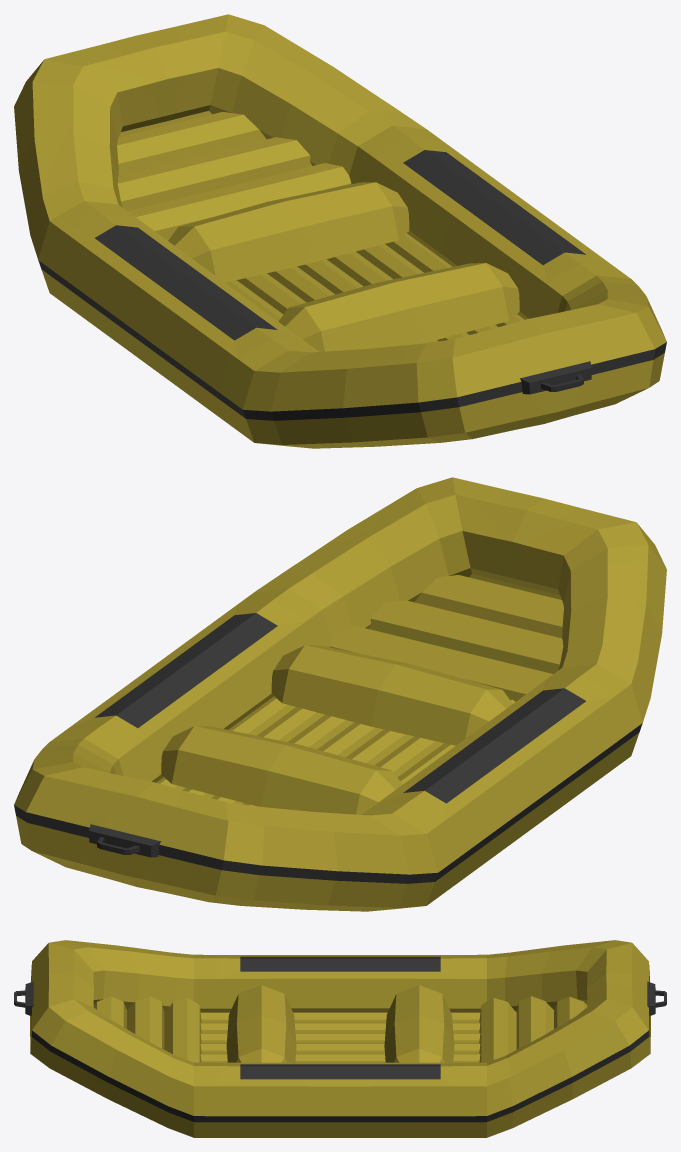
The model's file is raft.glb.
The picture shows the model from 3 angles, top to bottom: view 1: azimuth 30°, elevation 25°; view 2: azimuth 150°, elevation 25°; view 3: azimuth 270°, elevation 25°; orthographic projection. The views are drawn at different scales.
Parts seen in each view (by area): view 1: Raft; view 2: Raft; view 3: Raft.
Part boxes in pixels (x1,y1,x2,y2): Raft: [14, 14, 666, 448]; Raft: [14, 477, 666, 911]; Raft: [14, 940, 666, 1137].
Size of the model in its own units: 11.96 by 4.3 by 23.65.
